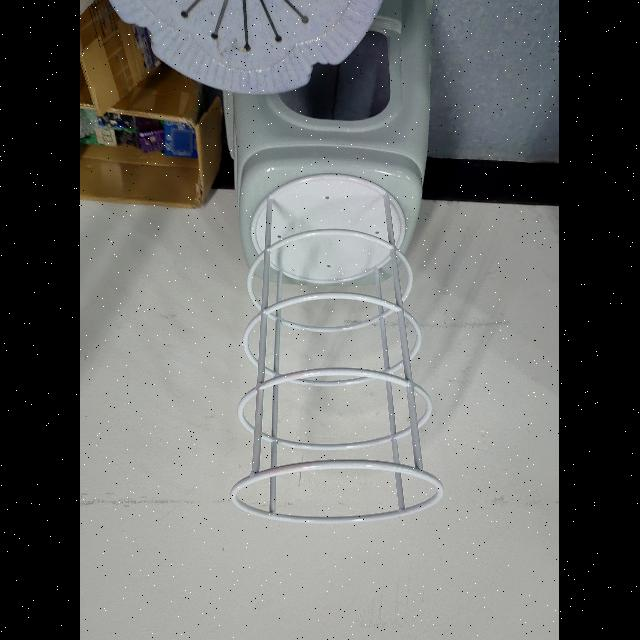S: (224, 167, 446, 528)
